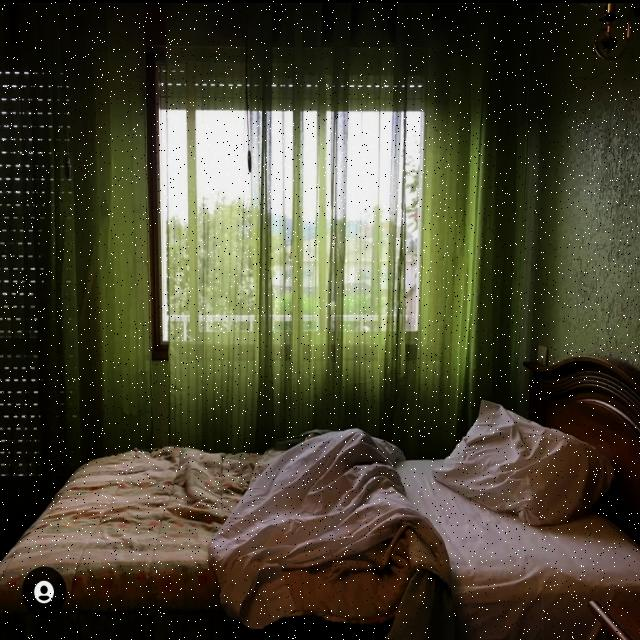bed: (0, 384, 640, 640)
